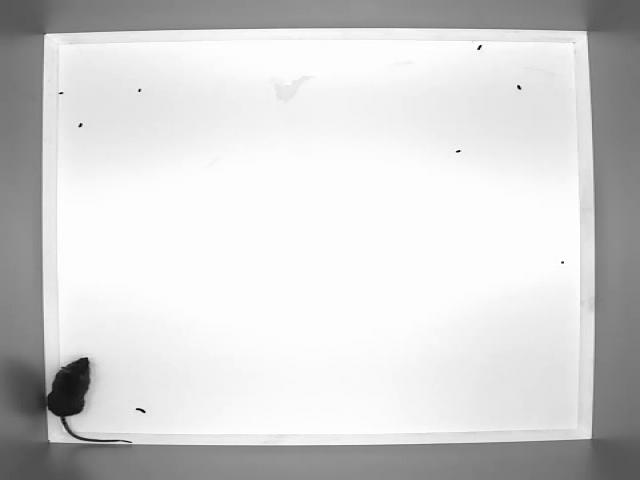Tikus: (47, 355, 137, 445)
